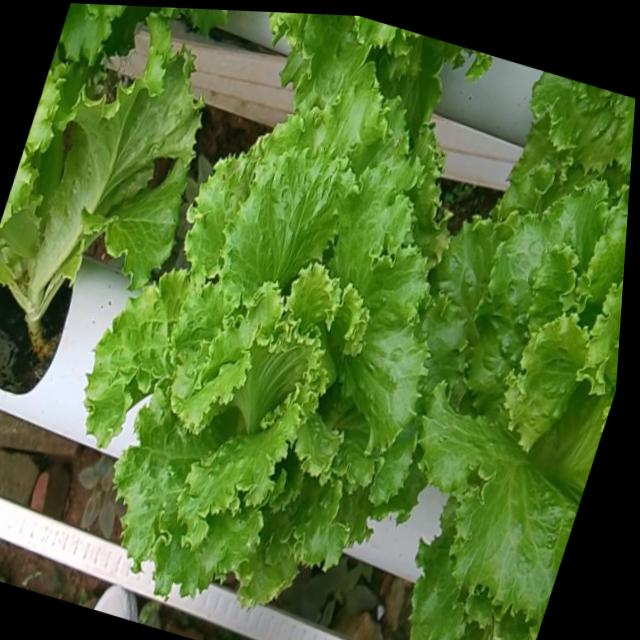Mature: (91, 102, 453, 618), (421, 195, 627, 639)
